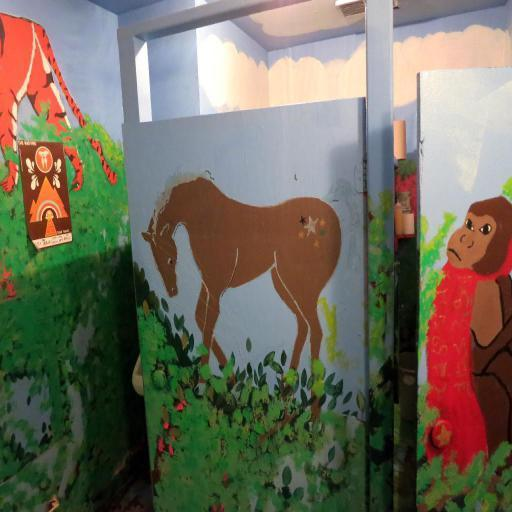horse: (142, 166, 362, 425)
